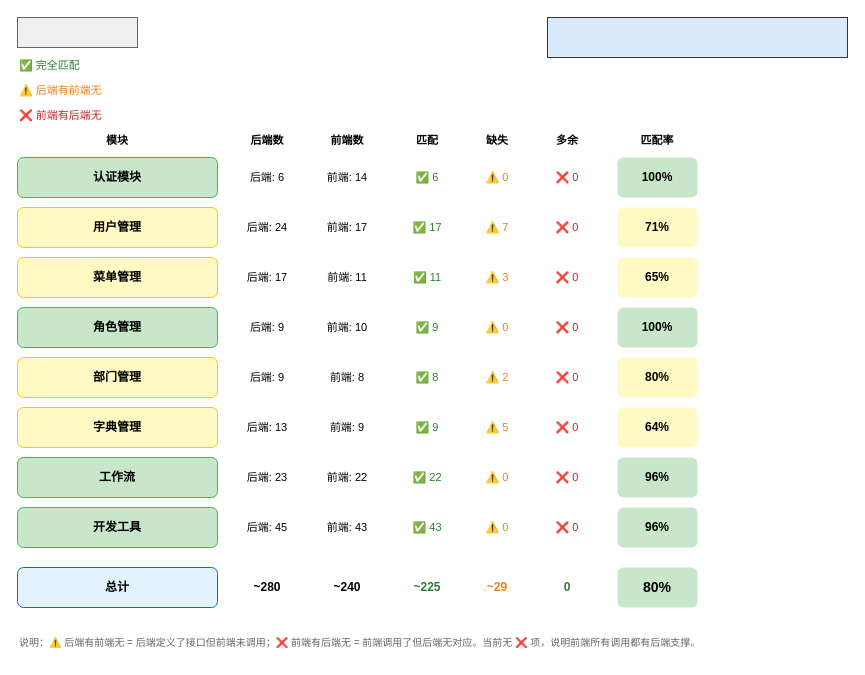
Some shapes in this 865 by 675 pixel diagram are drawn without their labels. Each missing label, with the centre of its shape:
图例: [77,32]
接口对齐矩阵: [697,37]
